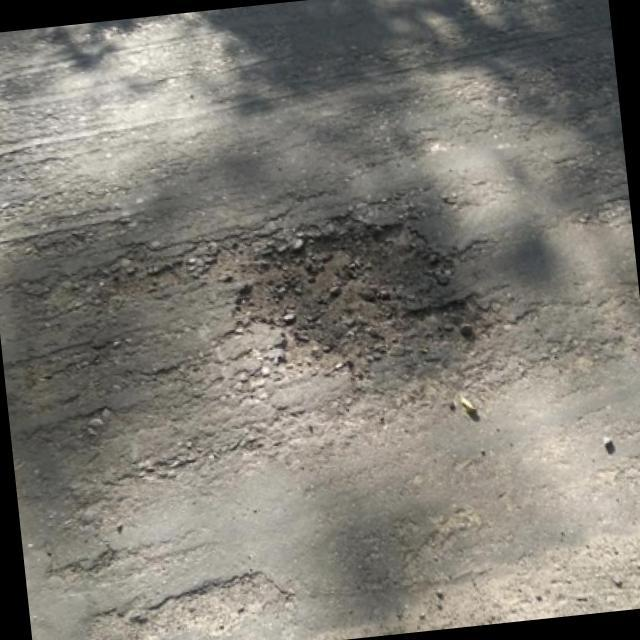Pothole: (141, 222, 535, 428), (143, 569, 293, 640), (405, 506, 481, 585), (127, 421, 195, 479)
